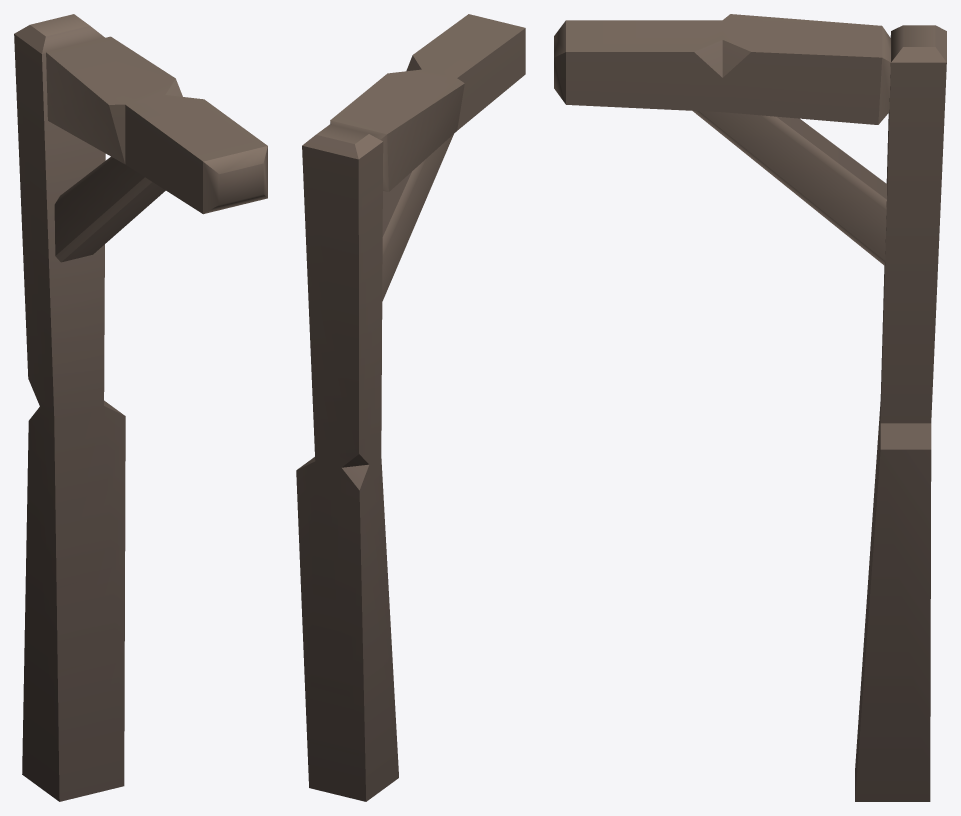
The model's file is Post.glb.
The picture shows the model from 3 angles, left to right: view 1: azimuth 30°, elevation 25°; view 2: azimuth 150°, elevation 25°; view 3: azimuth 270°, elevation 25°; orthographic projection. The views are drawn at different scales.
Parts seen in each view (by area): view 1: post; view 2: post; view 3: post.
Part boxes in pixels (box(x1,y1,x2,y2)): post: box(14, 14, 267, 801); post: box(296, 14, 525, 801); post: box(554, 14, 946, 801).
Bounding box in the file's own units: 0.4237 × 3.3 × 1.57.
Materials: 1 (1 with a texture image).
